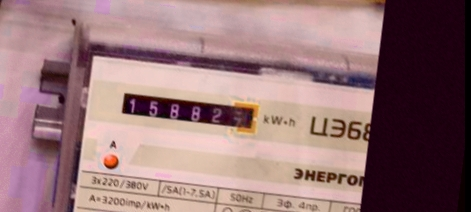1: (126, 97, 137, 114)
2: (210, 106, 222, 124)
5: (147, 99, 159, 116)
7: (231, 115, 242, 127)
8: (189, 104, 201, 122), (168, 103, 180, 120)
screen: (113, 83, 265, 140)
